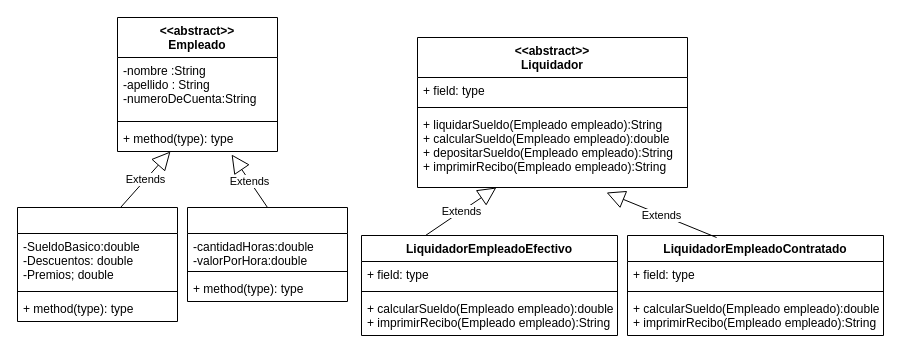
Some shapes in this 901 by 356 pixel diagram are drawn without their labels. Each missing label, with the box of its shape:
EmpleadoContratado: (186, 206, 348, 302)
EmpleadoEfectivo: (16, 206, 178, 322)
